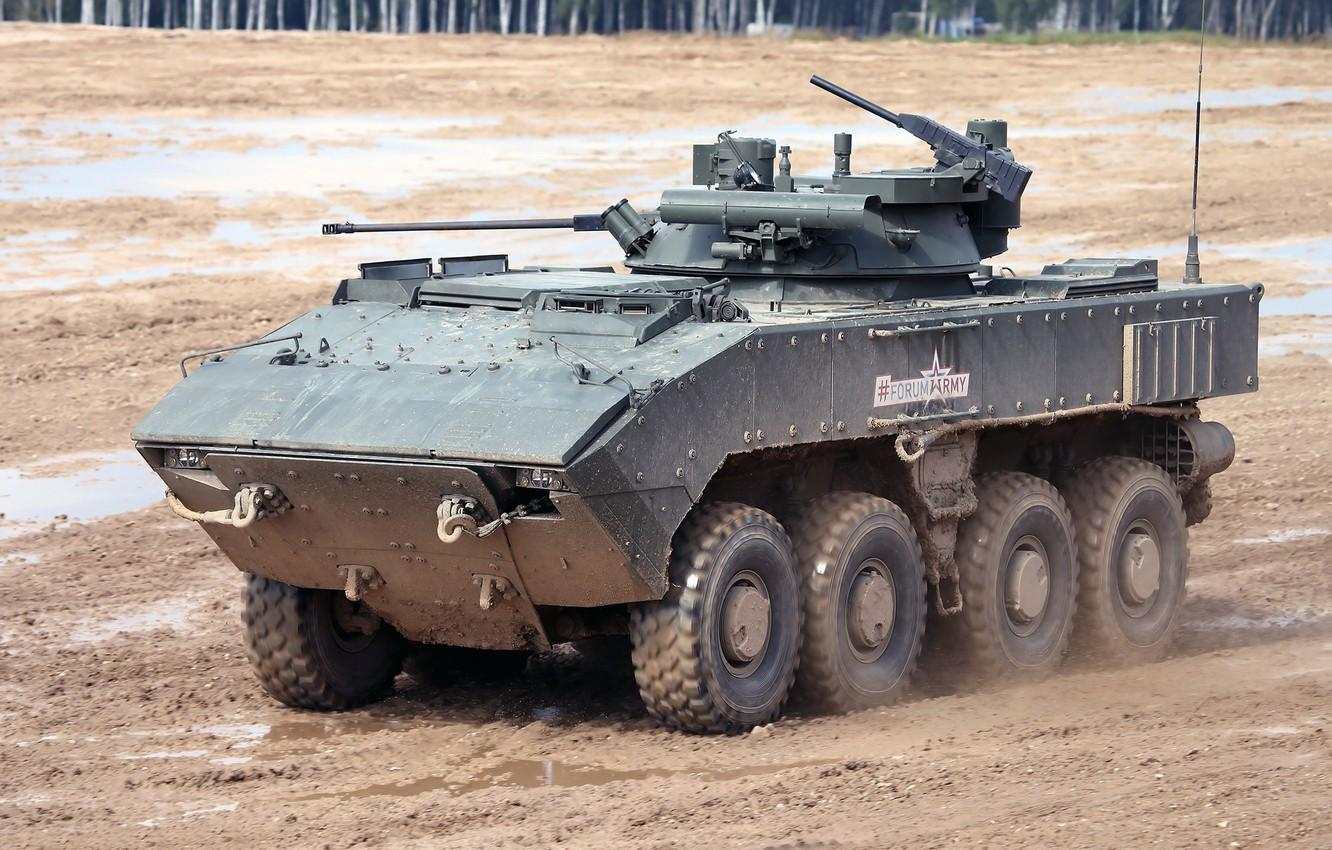tank: (130, 71, 1264, 737)
